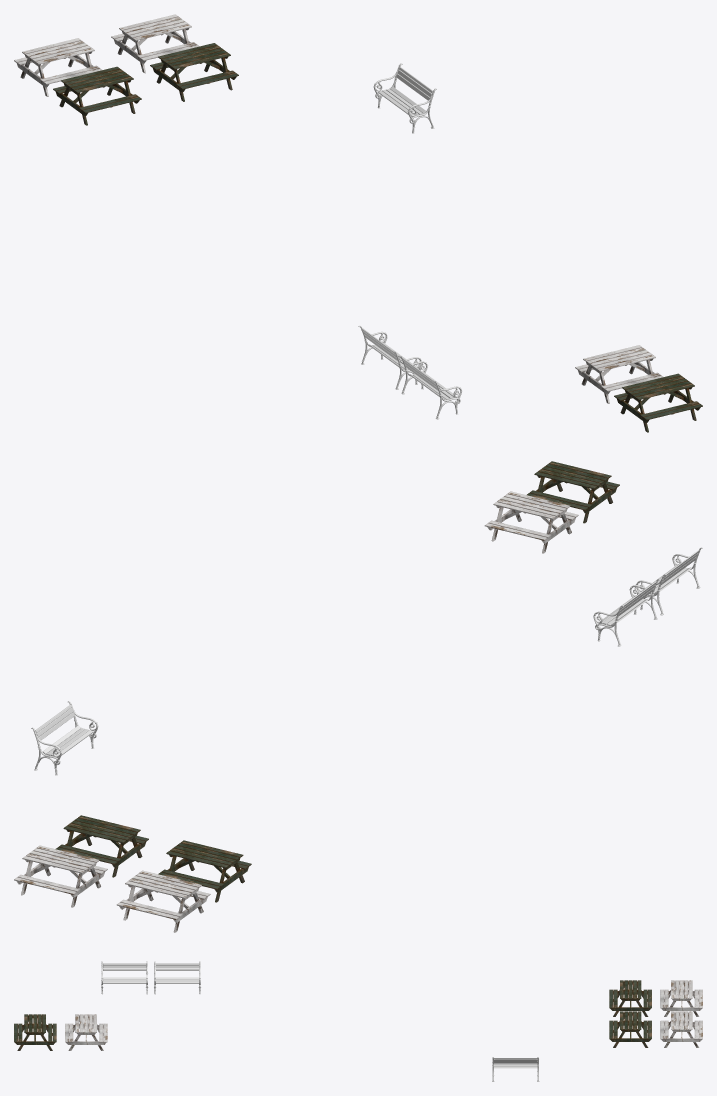
Rendered from PatioTrasero.fbx.
3 views of the same model, one above another, from view 1: azimuth 30°, elevation 25°; view 2: azimuth 150°, elevation 25°; view 3: azimuth 270°, elevation 25° (orthographic). The views are drawn at different scales.
Parts seen in each view (by area): view 1: pCube33.002, pCube33.003, pCube33.001, Park Bench, Park Bench.001, Park Bench.002; view 2: pCube33.002, pCube33.003, pCube33.001, Park Bench, Park Bench.002, Park Bench.001; view 3: pCube33.003, pCube33.001, pCube33.002, Park Bench.002, Park Bench.001, Park Bench.
Boxes of the visible parts, left/top/right/bottom form: pCube33.002: left=111, top=14, right=238, bottom=101; pCube33.003: left=575, top=345, right=702, bottom=432; pCube33.001: left=14, top=38, right=141, bottom=125; Park Bench: left=373, top=63, right=436, bottom=133; Park Bench.001: left=399, top=355, right=462, bottom=419; Park Bench.002: left=358, top=325, right=421, bottom=389; pCube33.002: left=14, top=815, right=148, bottom=907; pCube33.003: left=484, top=461, right=619, bottom=553; pCube33.001: left=116, top=840, right=251, bottom=932; Park Bench: left=31, top=701, right=98, bottom=775; Park Bench.002: left=593, top=578, right=660, bottom=646; Park Bench.001: left=636, top=547, right=702, bottom=615; pCube33.003: left=14, top=1014, right=107, bottom=1050; pCube33.001: left=609, top=980, right=702, bottom=1016; pCube33.002: left=609, top=1011, right=702, bottom=1047; Park Bench.002: left=154, top=961, right=201, bottom=994; Park Bench.001: left=101, top=961, right=148, bottom=994; Park Bench: left=492, top=1057, right=539, bottom=1081.
Size of the model in its own units: 1912 by 248 by 5768.
Materials: 3 (2 with a texture image).
